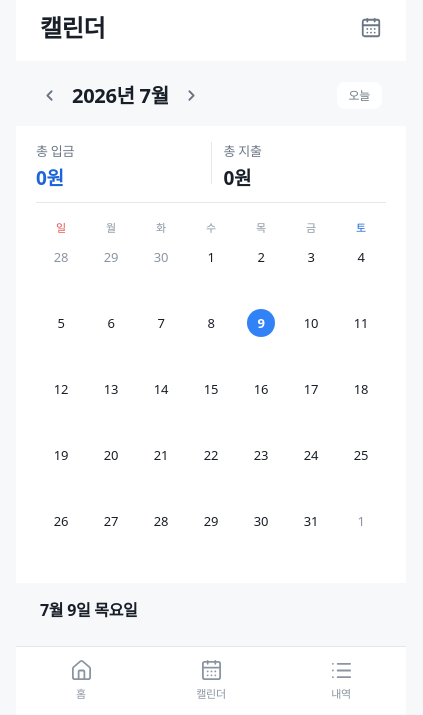
Test: CalendarPage › 오늘 버튼은 다른 달·날짜에서 이번 달과 오늘로 돌아온다
Step 1. Click the button "오늘" → (359, 96), box x1=336 y1=82 x2=382 y2=109
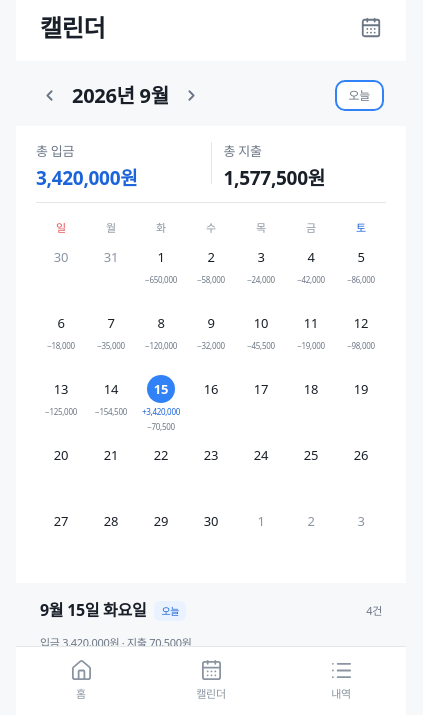
Expected: the text "2026년 9월" is shown, x1=72 y1=81 x2=169 y2=110
Expected: the heading "9월 15일 화요일" is shown, x1=40 y1=599 x2=146 y2=623
